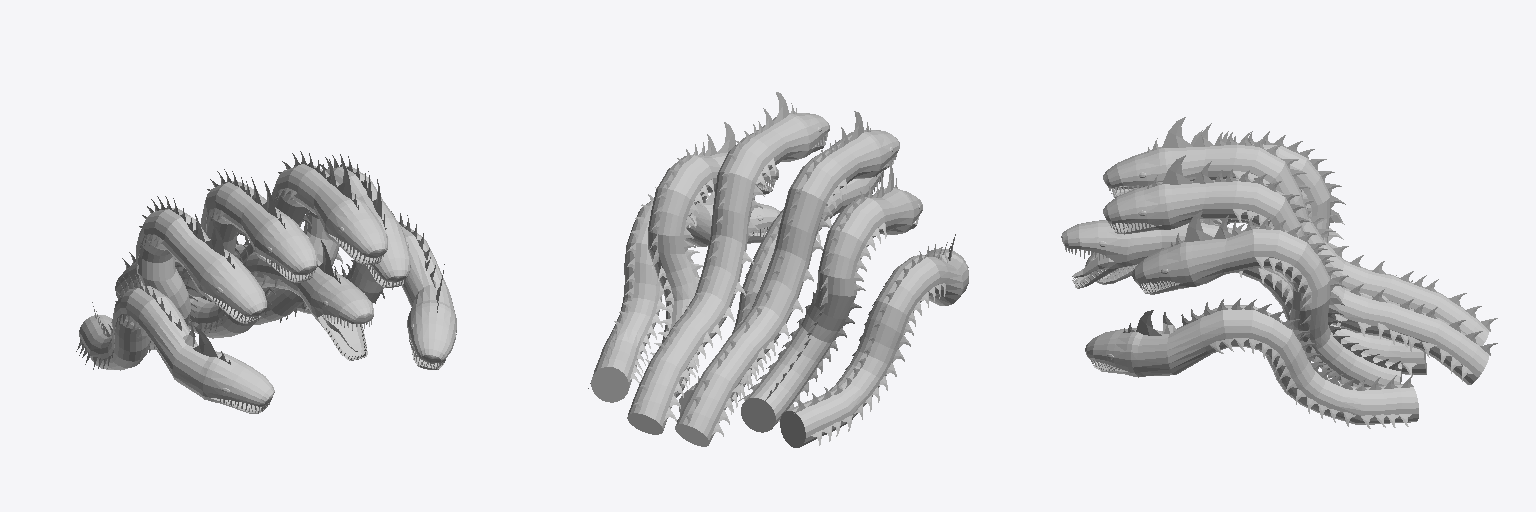
The model's file is DS_Hydra_Disparando.obj.
The picture shows the model from 3 angles: view 1: azimuth 30°, elevation 25°; view 2: azimuth 150°, elevation 25°; view 3: azimuth 270°, elevation 25°; orthographic projection.
Visible parts, largest first — view 1: default; view 2: default; view 3: default.
Boxes of the visible parts, <box> form: default: <box>76,151,456,413</box>; default: <box>588,92,968,447</box>; default: <box>1061,117,1497,428</box>.
Bounding box in the file's own units: 18.09 × 14 × 23.05.